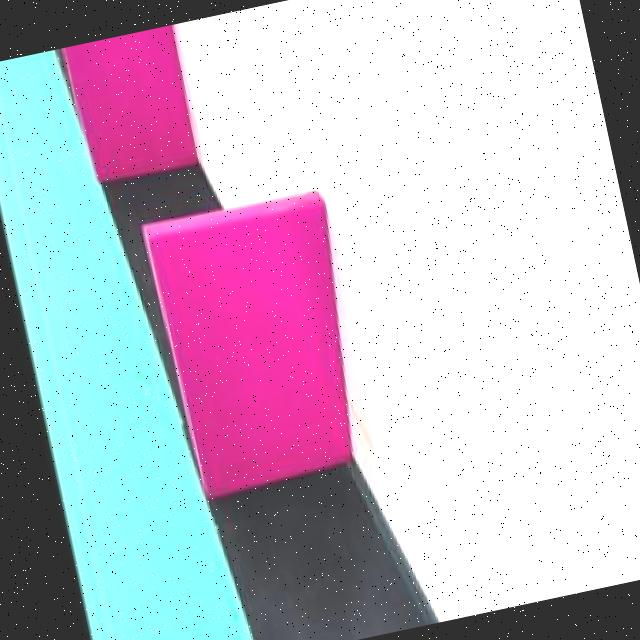xparking: (148, 204, 352, 496), (68, 24, 200, 178)
